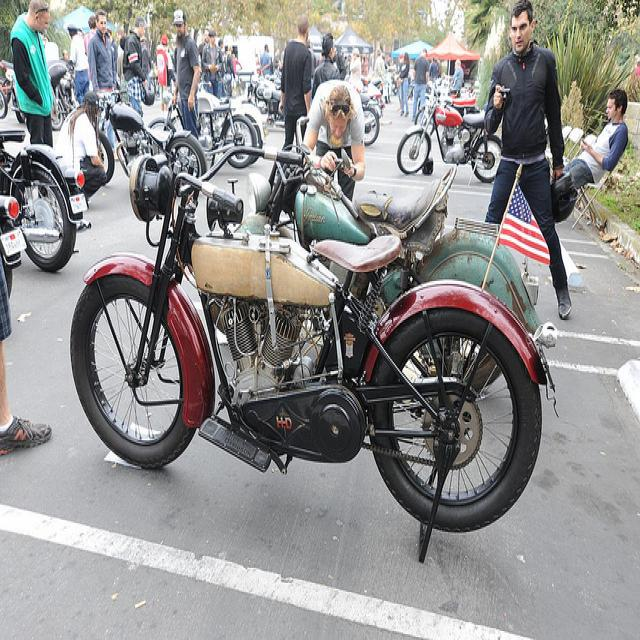motor: (71, 106, 558, 565), (238, 113, 554, 335), (0, 127, 90, 271), (97, 89, 208, 184), (398, 86, 502, 181), (194, 85, 258, 168), (346, 74, 380, 146)
